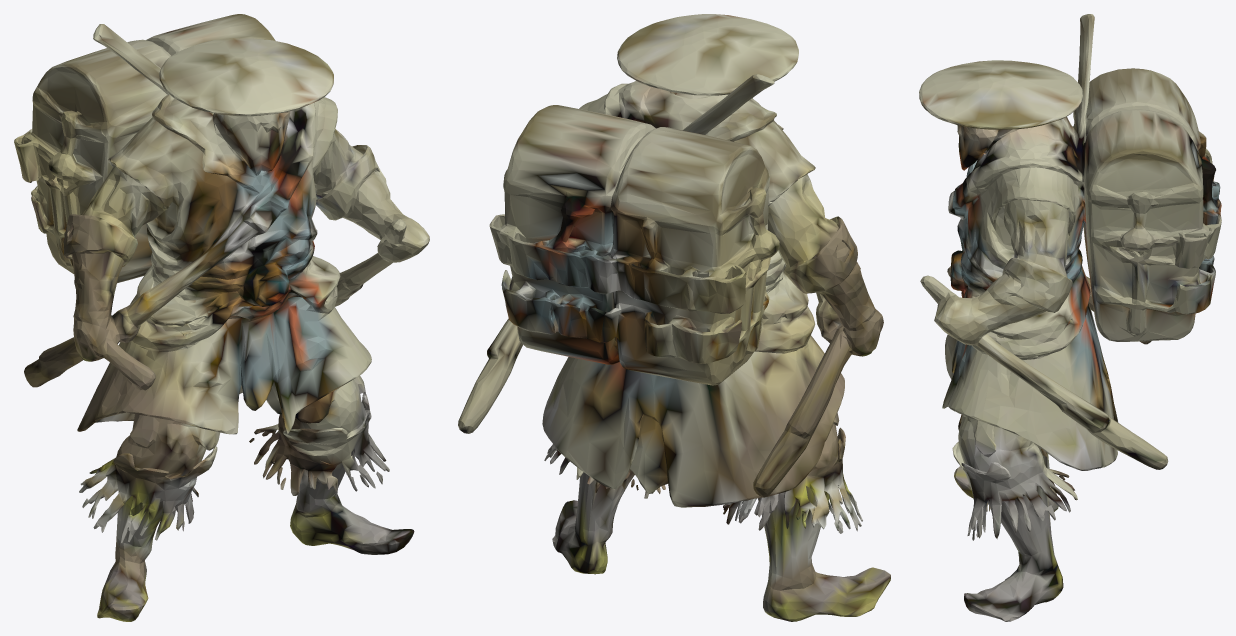
Rendered from fireDokkaebi.glb.
3 views of the same model, side by side, from view 1: azimuth 30°, elevation 25°; view 2: azimuth 150°, elevation 25°; view 3: azimuth 270°, elevation 25° (orthographic). The views are drawn at different scales.
Parts seen in each view (by area): view 1: world; view 2: world; view 3: world.
Boxes of the visible parts, left/top/right/bottom form: world: left=14, top=14, right=429, bottom=621; world: left=458, top=14, right=890, bottom=621; world: left=919, top=14, right=1221, bottom=621.
Bounding box in the file's own units: 0.6237 × 1 × 0.548.
